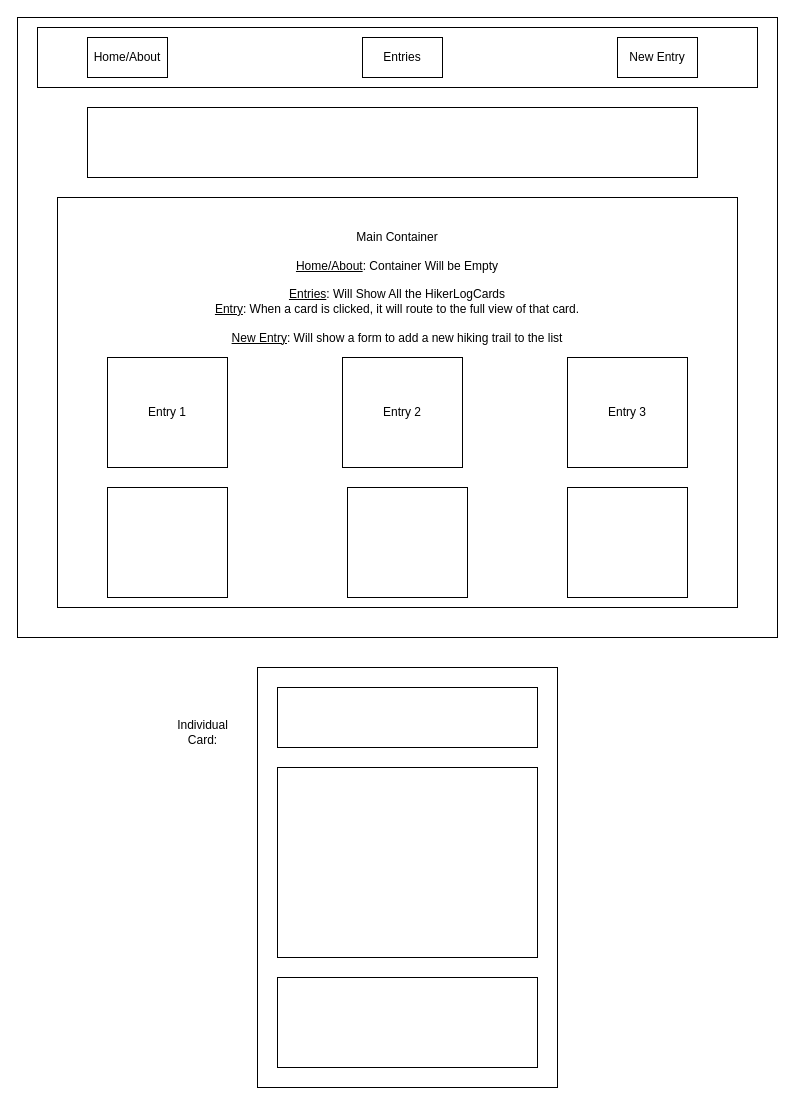
Image size: 795x1105. Some labels were removed from this diagram. Each missing label, with the box of its shape:
Location: Trail: Distance:: (276, 686, 538, 748)
Memory: (276, 976, 538, 1068)
Photo/Sketch: (276, 766, 538, 958)
VentureLog: A Wonderers Footprint: (86, 106, 698, 178)
